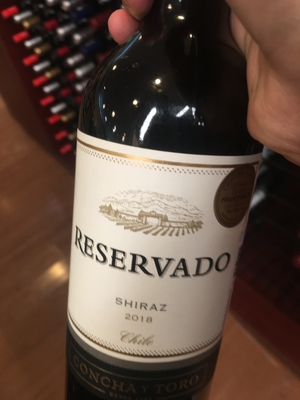reservado shiraz: (74, 26, 249, 400)
